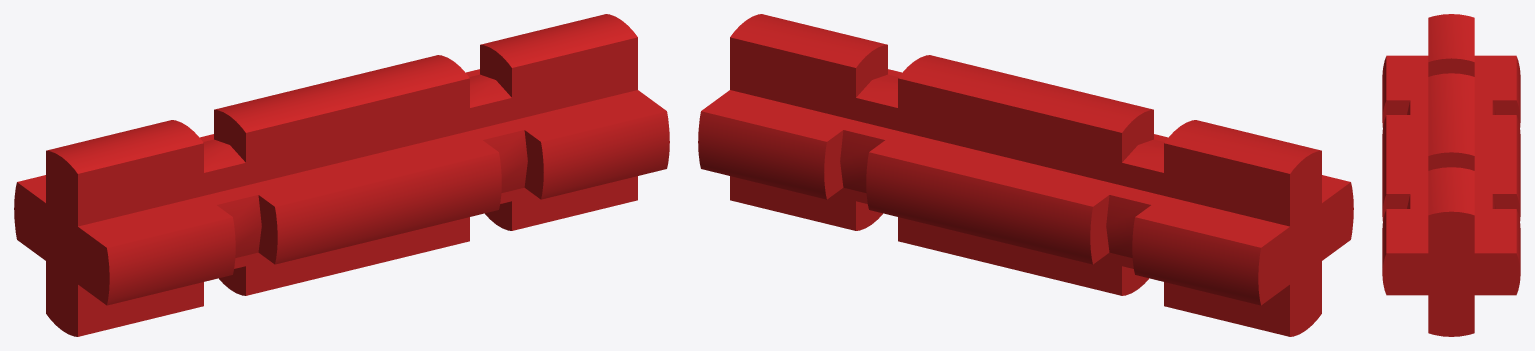
Rendered from Axle 2m.fbx.
3 renders of one model, left to right at view 1: azimuth 30°, elevation 25°; view 2: azimuth 150°, elevation 25°; view 3: azimuth 270°, elevation 25°, orthographic. The views are drawn at different scales.
Visible parts, largest first — view 1: Axle 2m; view 2: Axle 2m; view 3: Axle 2m.
Boxes of the visible parts, x1,y1,x2,y2 form: Axle 2m: [14, 14, 669, 336]; Axle 2m: [698, 14, 1353, 336]; Axle 2m: [1382, 14, 1520, 336].
Bounding box in the file's own units: 159 × 47 × 47.
